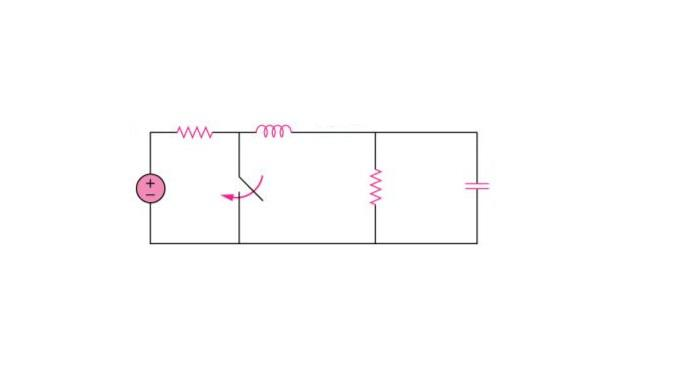resistor: (353, 151, 398, 211)
